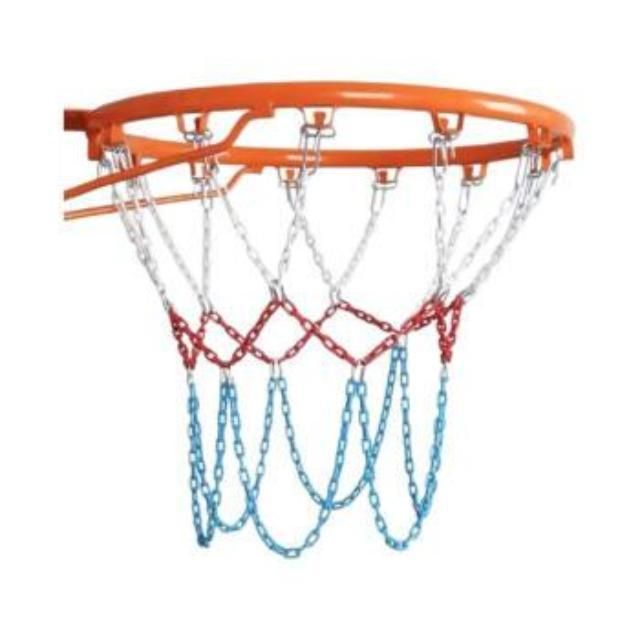rim: (86, 81, 574, 558)
